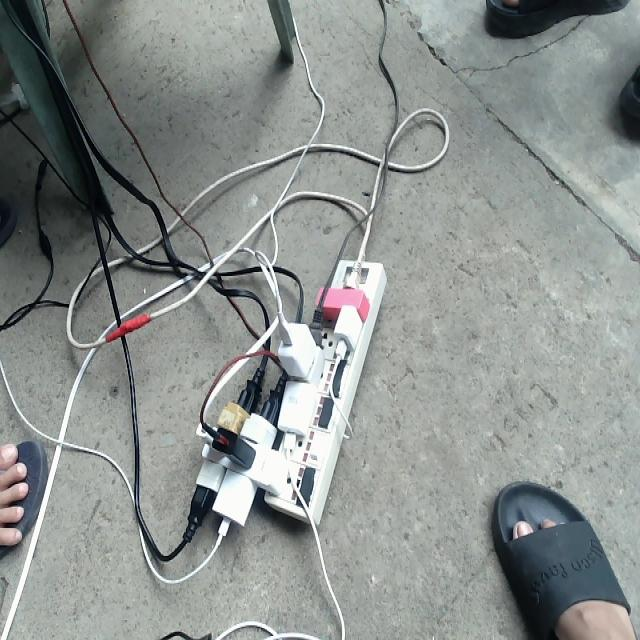-: (175, 258, 390, 550)
